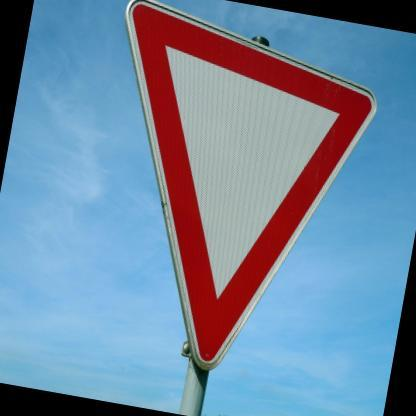road_sign: (128, 0, 377, 370)
